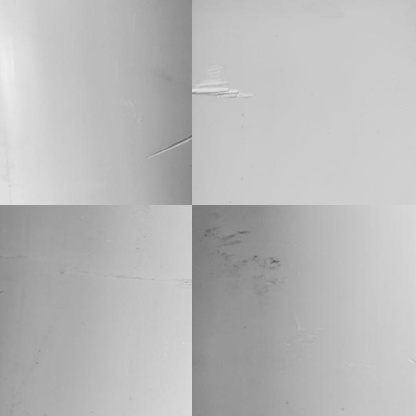sunshang: (191, 63, 256, 102), (144, 134, 192, 160)
